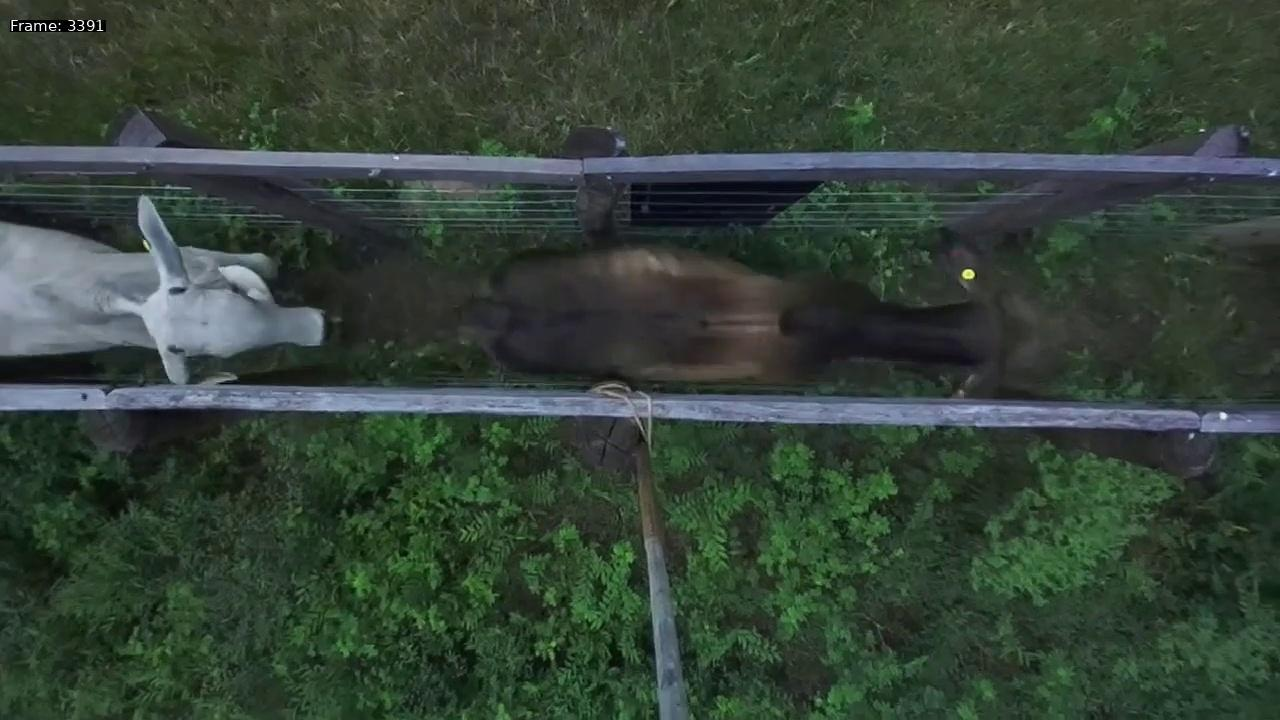cattle: (457, 220, 1066, 409)
